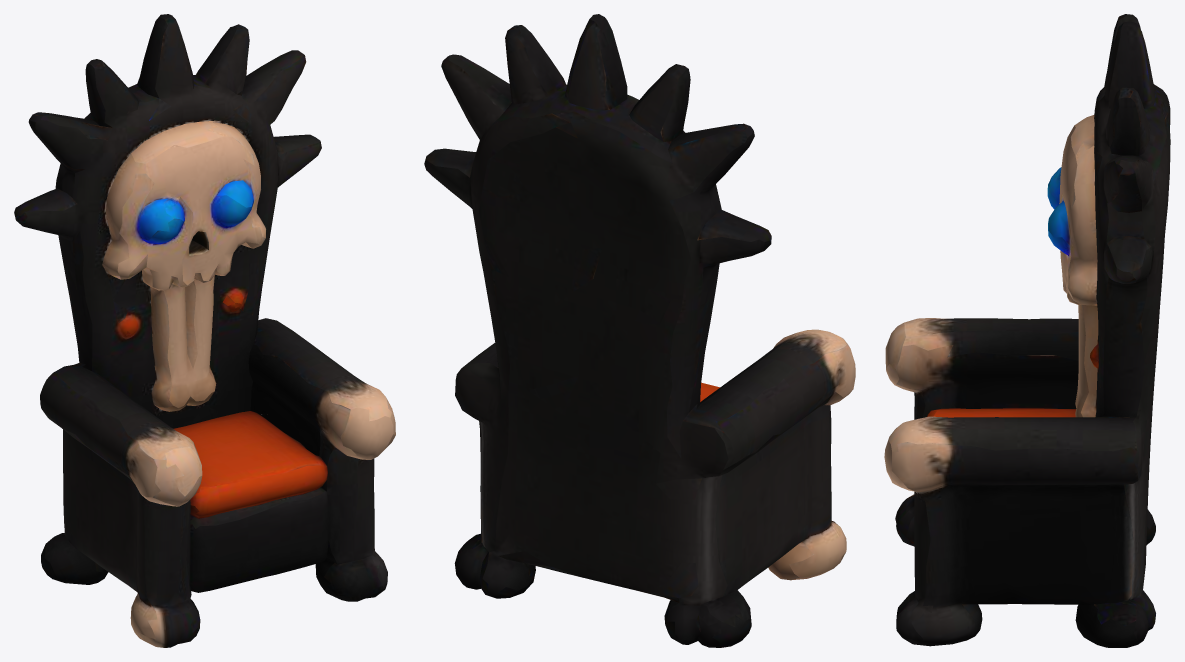
File: a-towering-black-bone-throne-wit-2cd59e.glb
3 views of the same model, side by side, from view 1: azimuth 30°, elevation 25°; view 2: azimuth 150°, elevation 25°; view 3: azimuth 270°, elevation 25° (orthographic). The views are drawn at different scales.
Visible parts, largest first — view 1: geometry_0; view 2: geometry_0; view 3: geometry_0.
Boxes of the visible parts, bbox=[...] form: geometry_0: bbox=[14, 14, 395, 647]; geometry_0: bbox=[424, 14, 855, 647]; geometry_0: bbox=[884, 14, 1170, 647].
Bounding box in the file's own units: 0.5969 × 1 × 0.4578.
1 material, 1 textured.
